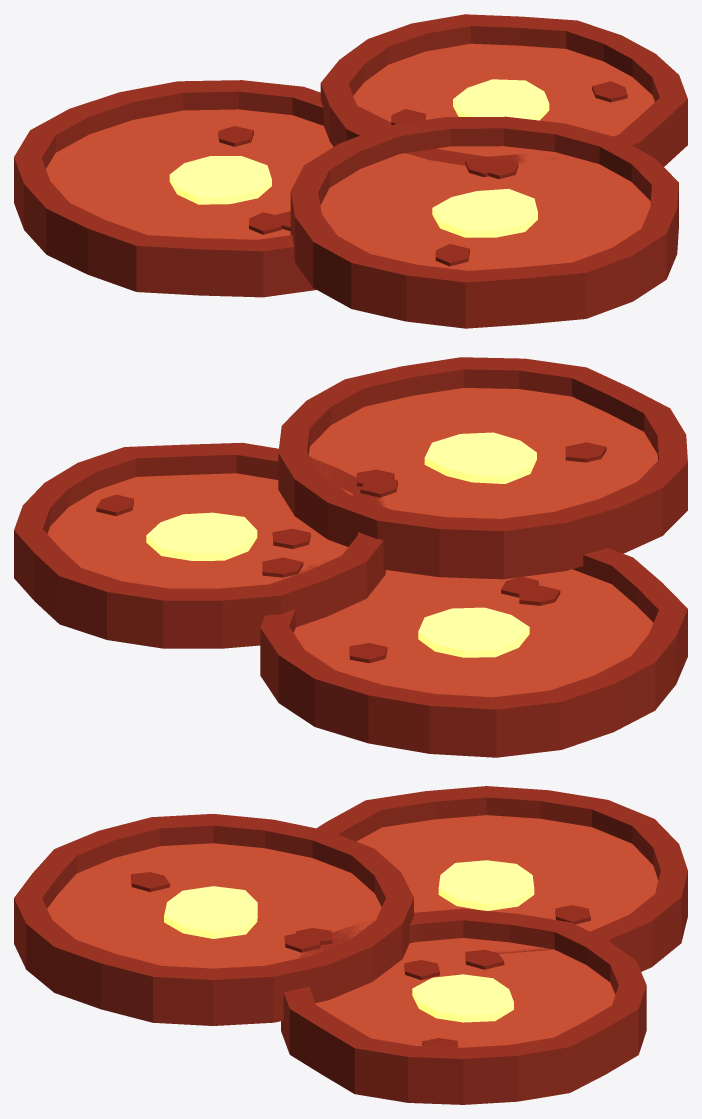
The model's file is Pepperoni.fbx.
The picture shows the model from 3 angles, top to bottom: view 1: azimuth 30°, elevation 25°; view 2: azimuth 150°, elevation 25°; view 3: azimuth 270°, elevation 25°; orthographic projection. The views are drawn at different scales.
Visible parts, largest first — view 1: Top_A82E1C, Top_E0502E, Top_FFA040_Neon, Top_A42A18; view 2: Top_A82E1C, Top_E0502E, Top_FFA040_Neon, Top_A42A18; view 3: Top_A82E1C, Top_E0502E, Top_FFA040_Neon, Top_A42A18.
Boxes of the visible parts, x1=… form: Top_A82E1C: x1=14, y1=14, x2=687, y2=328; Top_E0502E: x1=46, y1=43, x2=654, y2=270; Top_FFA040_Neon: x1=169, y1=79, x2=549, y2=237; Top_A42A18: x1=218, y1=81, x2=627, y2=266; Top_A82E1C: x1=14, y1=357, x2=687, y2=757; Top_E0502E: x1=47, y1=388, x2=657, y2=697; Top_FFA040_Neon: x1=146, y1=432, x2=536, y2=657; Top_A42A18: x1=96, y1=442, x2=606, y2=663; Top_A82E1C: x1=14, y1=786, x2=687, y2=1104; Top_E0502E: x1=47, y1=815, x2=658, y2=1047; Top_FFA040_Neon: x1=164, y1=860, x2=534, y2=1022; Top_A42A18: x1=131, y1=872, x2=590, y2=1047.
Size of the model in its own units: 2 by 0.2612 by 1.96.
